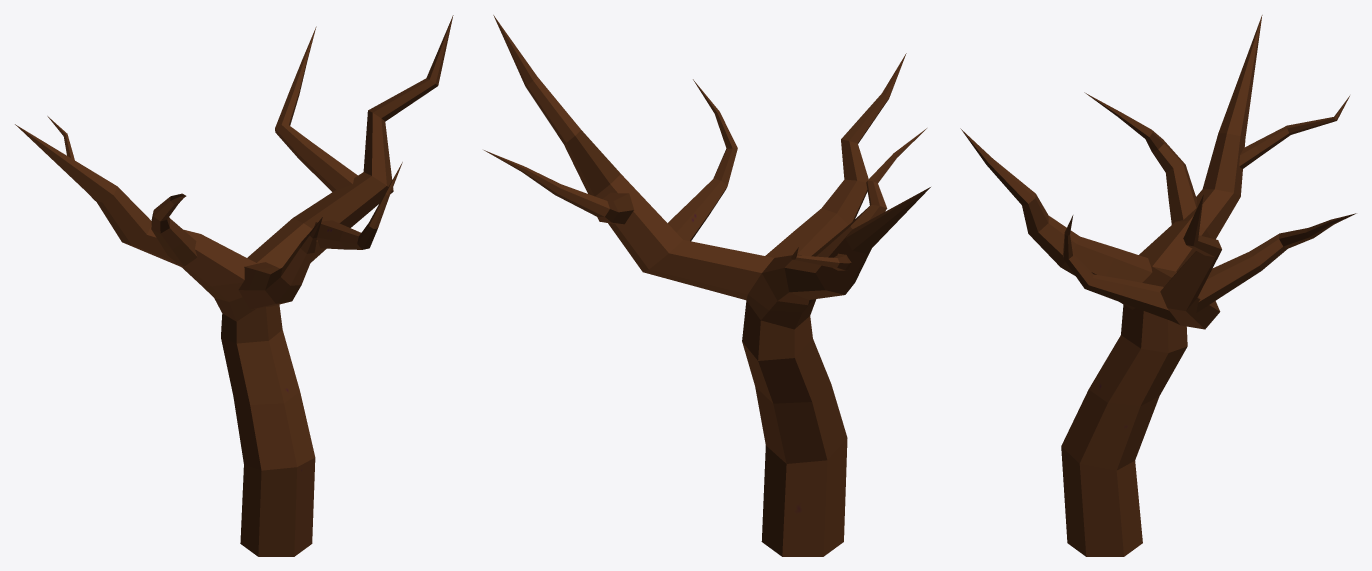
The model's file is Tree.fbx.
3 views of the same model, side by side, from view 1: azimuth 30°, elevation 25°; view 2: azimuth 150°, elevation 25°; view 3: azimuth 270°, elevation 25° (orthographic). The views are drawn at different scales.
Visible parts, largest first — view 1: Tree; view 2: Tree; view 3: Tree.
Boxes of the visible parts, x1,y1,x2,y2 form: Tree: (15, 15, 453, 556); Tree: (484, 15, 930, 556); Tree: (960, 15, 1356, 556).
Size of the model in its own units: 6.36 by 6.51 by 5.05.
